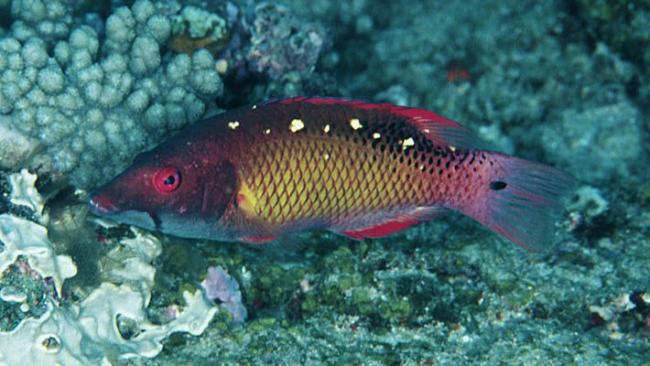fish: (87, 95, 572, 250)
